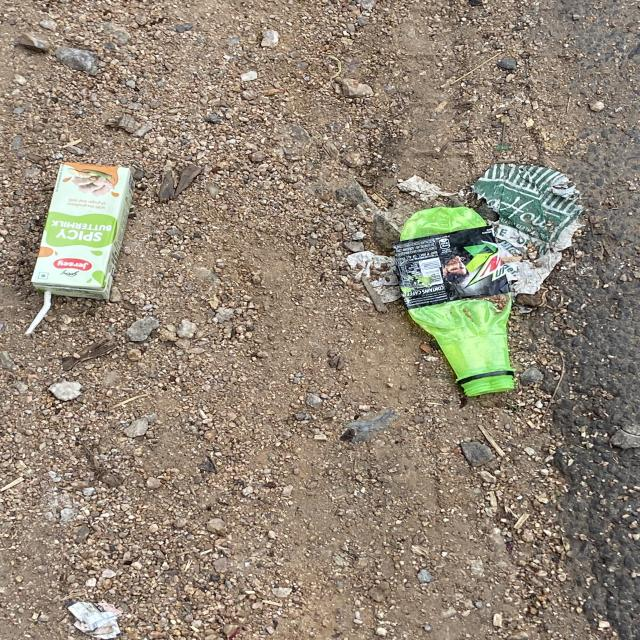giay: (473, 163, 583, 294)
hop_nhua: (394, 206, 515, 396)
ly_hop_giay: (28, 162, 133, 310)
